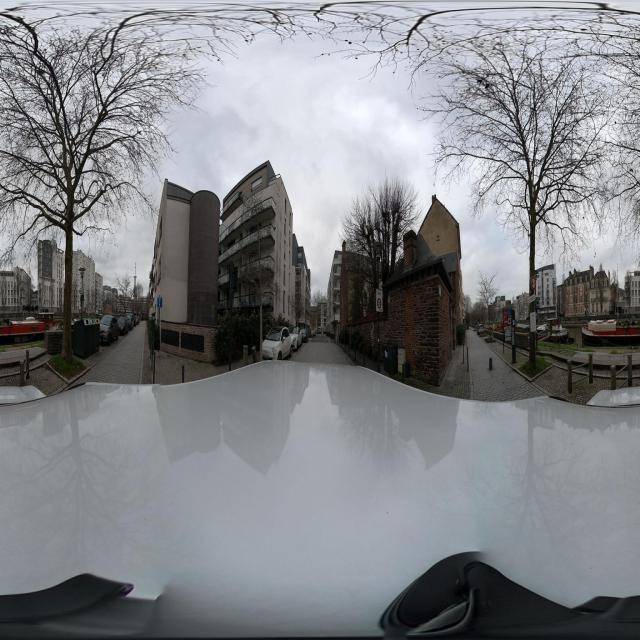car: (261, 330, 291, 360), (99, 314, 119, 344), (116, 314, 128, 334), (298, 323, 307, 343)
